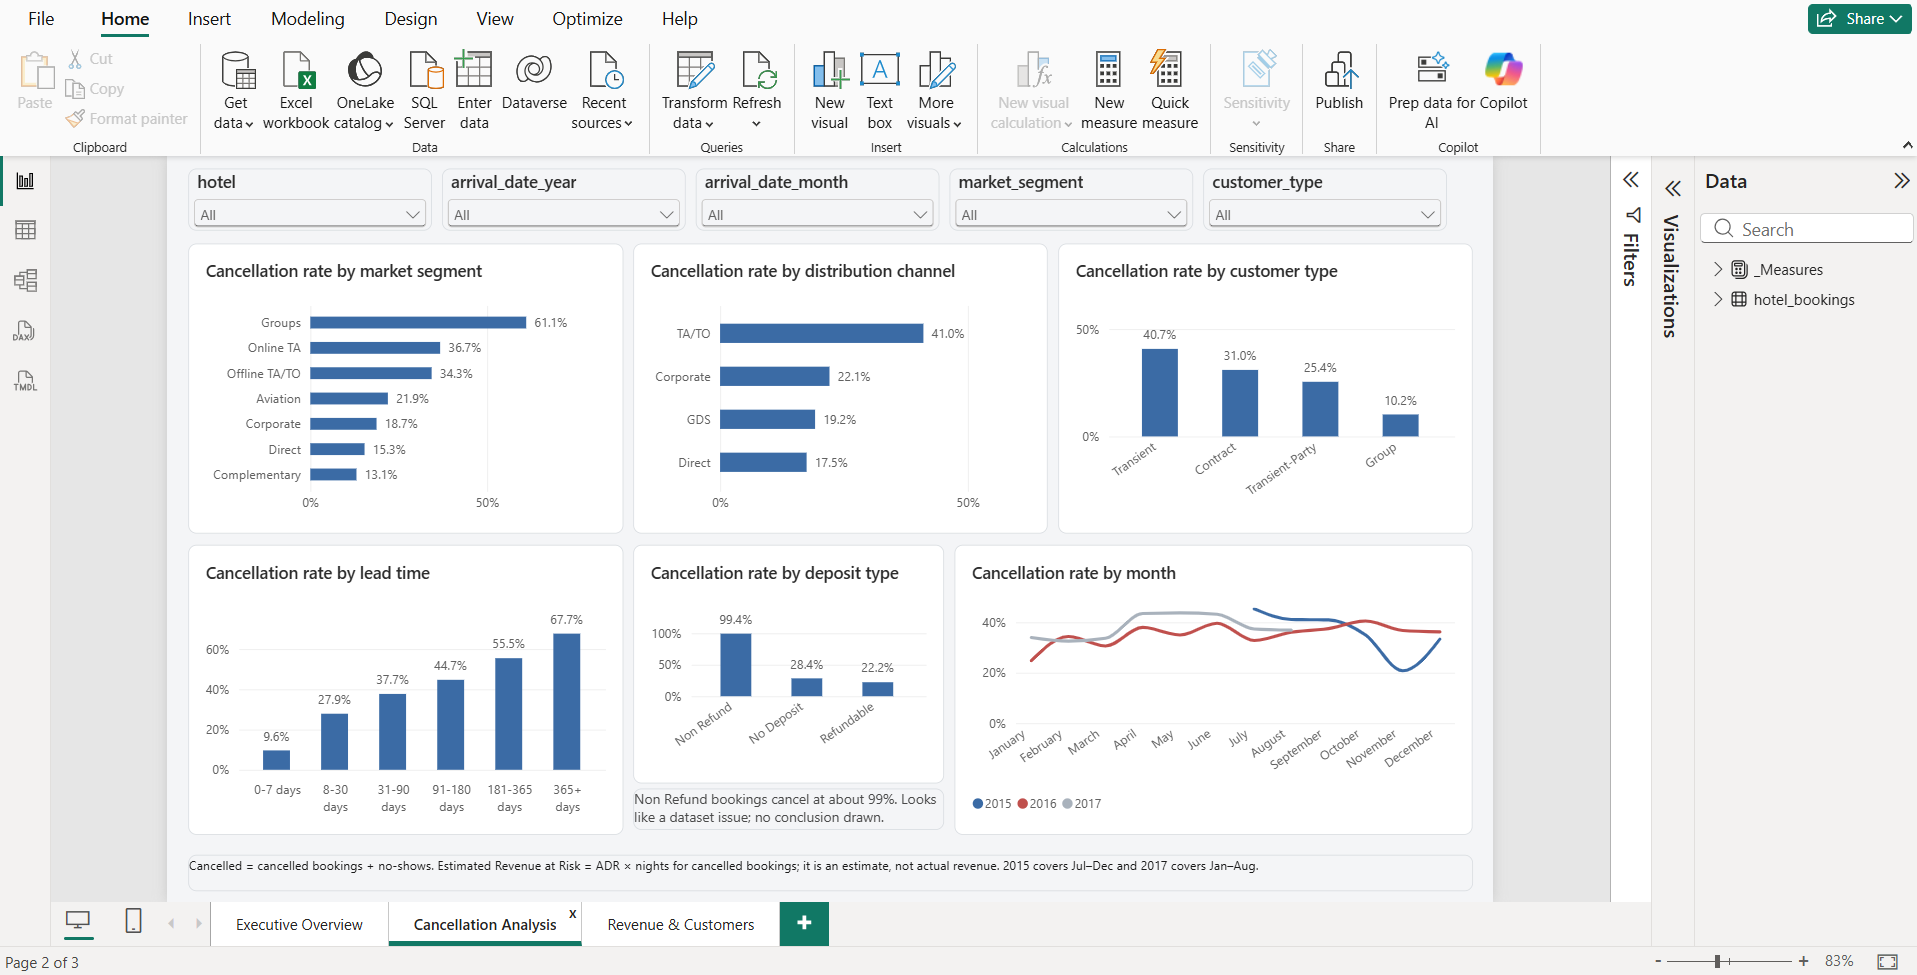

Layout of this report page (visuals, bound fields, positions):
{"tool":"powerbi","page":{"name":"Cancellation Analysis","canvas":[1280,720],"ordinal":1},"visuals":[{"type":"slicer","fields":{"Values":["hotel_bookings.hotel"]},"box":[20,12,235,60],"z":0},{"type":"slicer","fields":{"Values":["hotel_bookings.arrival_date_year"]},"box":[265,12,235,60],"z":1000},{"type":"slicer","fields":{"Values":["hotel_bookings.arrival_date_month"]},"box":[510,12,235,60],"z":2000},{"type":"slicer","fields":{"Values":["hotel_bookings.market_segment"]},"box":[755,12,235,60],"z":3000},{"type":"slicer","fields":{"Values":["hotel_bookings.customer_type"]},"box":[1000,12,235,60],"z":4000},{"type":"clusteredBarChart","title":"Cancellation rate by market segment","fields":{"Category":["hotel_bookings.market_segment"],"Y":["_Measures.Cancellation Rate"]},"box":[20,85,420,280],"z":4001},{"type":"clusteredBarChart","title":"Cancellation rate by distribution channel","fields":{"Category":["hotel_bookings.distribution_channel"],"Y":["_Measures.Cancellation Rate"]},"box":[450,85,400,280],"z":4002},{"type":"clusteredColumnChart","title":"Cancellation rate by customer type","fields":{"Category":["hotel_bookings.customer_type"],"Y":["_Measures.Cancellation Rate"]},"box":[860,85,400,280],"z":4003},{"type":"clusteredColumnChart","title":"Cancellation rate by lead time","fields":{"Category":["hotel_bookings.lead_time_bucket"],"Y":["_Measures.Cancellation Rate"]},"box":[20,375,420,280],"z":4004},{"type":"clusteredColumnChart","title":"Cancellation rate by deposit type","fields":{"Category":["hotel_bookings.deposit_type"],"Y":["_Measures.Cancellation Rate"]},"box":[450,375,300,230],"z":4005},{"type":"textbox","box":[450,610,300,40],"z":4006},{"type":"lineChart","title":"Cancellation rate by month","fields":{"Category":["hotel_bookings.arrival_date_month"],"Series":["hotel_bookings.arrival_date_year"],"Y":["_Measures.Cancellation Rate"]},"box":[760,375,500,280],"z":4007},{"type":"textbox","box":[20,675,1240,35],"z":4008}]}

Visuals, with their boxes on the page's 1280x720 design canvas (x1, y1, x2, y2). These are canvas units, not pixel positions in the 1917x975 screenshot, which may show the page scaled, cropped or inside an application window:
slicer - hotel_bookings.hotel: detection(20, 12, 255, 72)
slicer - hotel_bookings.arrival_date_year: detection(265, 12, 500, 72)
slicer - hotel_bookings.arrival_date_month: detection(510, 12, 745, 72)
slicer - hotel_bookings.market_segment: detection(755, 12, 990, 72)
slicer - hotel_bookings.customer_type: detection(1000, 12, 1235, 72)
"Cancellation rate by market segment" clusteredBarChart: detection(20, 85, 440, 365)
"Cancellation rate by distribution channel" clusteredBarChart: detection(450, 85, 850, 365)
"Cancellation rate by customer type" clusteredColumnChart: detection(860, 85, 1260, 365)
"Cancellation rate by lead time" clusteredColumnChart: detection(20, 375, 440, 655)
"Cancellation rate by deposit type" clusteredColumnChart: detection(450, 375, 750, 605)
textbox: detection(450, 610, 750, 650)
"Cancellation rate by month" lineChart: detection(760, 375, 1260, 655)
textbox: detection(20, 675, 1260, 710)
